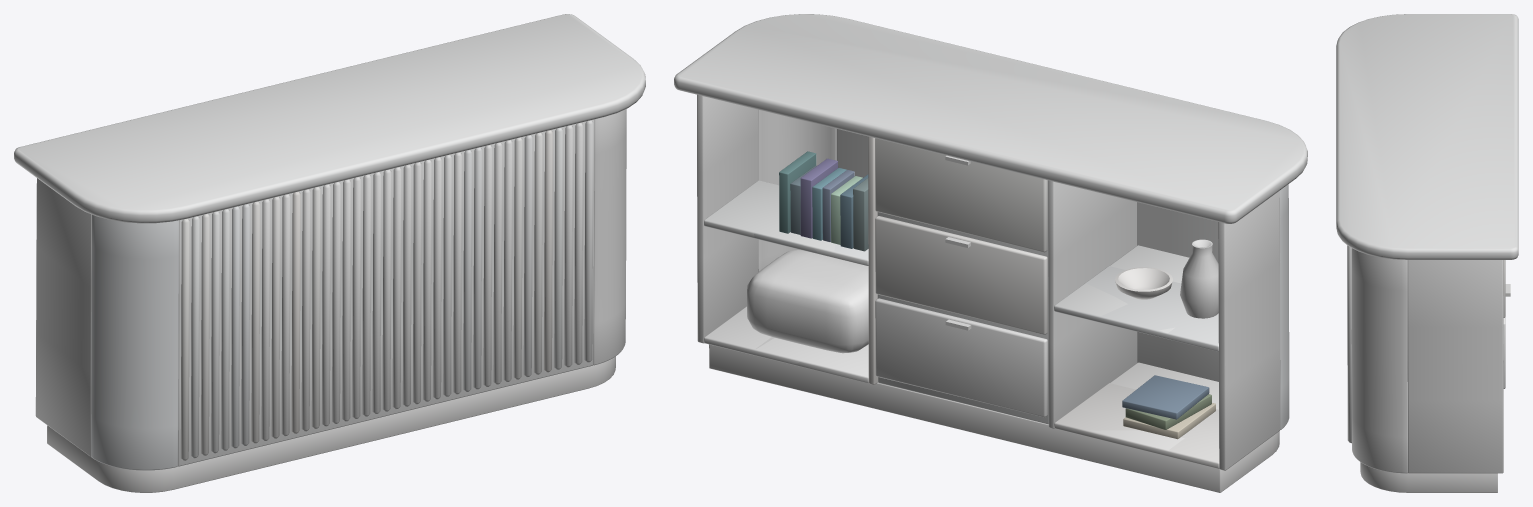
The model's file is counter_minimalist.glb.
3 views of the same model, side by side, from view 1: azimuth 30°, elevation 25°; view 2: azimuth 150°, elevation 25°; view 3: azimuth 270°, elevation 25° (orthographic). The views are drawn at different scales.
Parts seen in each view (by area): view 1: wood, white, plinth; view 2: white, wood, plinth, cover, linen, ceramic, clay; view 3: wood, white, plinth.
Part boxes in pixels (box(x1,y1,x2,y2)): wood: box(14, 14, 645, 460); white: box(35, 109, 626, 470); plinth: box(47, 356, 615, 492); white: box(697, 94, 1289, 470); wood: box(674, 14, 1307, 468); plinth: box(709, 344, 1279, 492); cover: box(779, 151, 1215, 439); linen: box(747, 249, 868, 353); ceramic: box(1180, 239, 1218, 318); clay: box(1115, 267, 1172, 299); wood: box(1336, 14, 1518, 443); white: box(1351, 248, 1505, 473); plinth: box(1360, 462, 1497, 492).
Bounding box in the file's own units: 2 × 1 × 0.6502.
